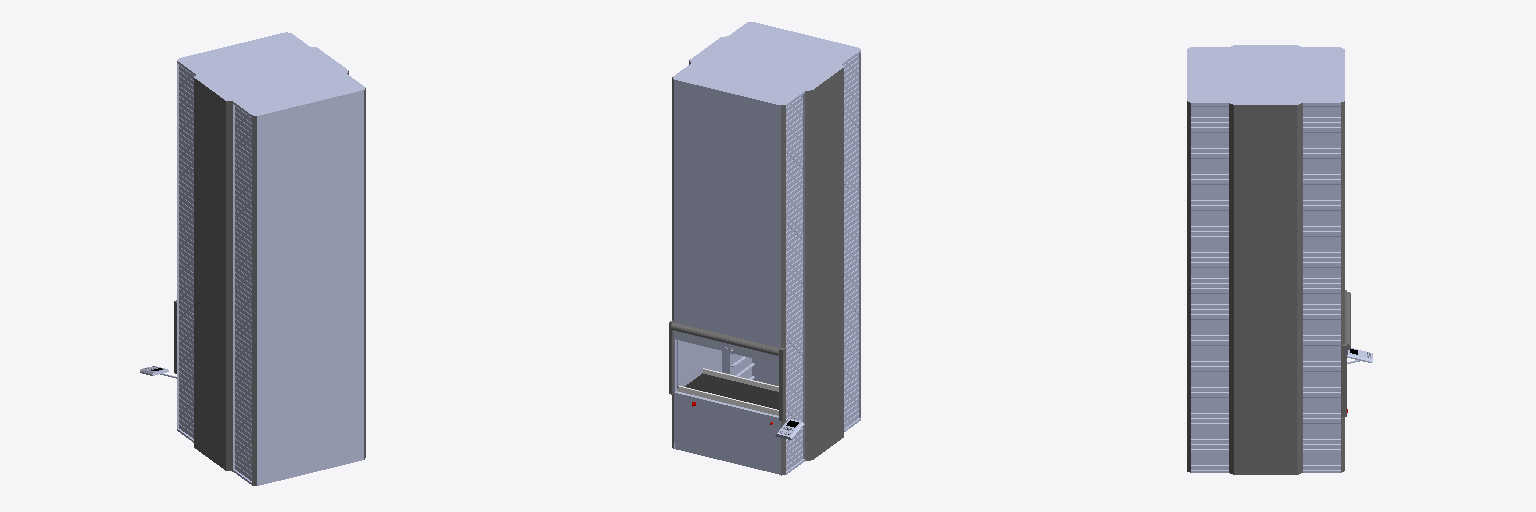
File: armazemverticalassNameAndGrouped.obj
3 renders of one model, left to right at view 1: azimuth 30°, elevation 25°; view 2: azimuth 150°, elevation 25°; view 3: azimuth 270°, elevation 25°, orthographic.
Parts seen in each view (by area): view 1: CerticalStorage; view 2: CerticalStorage, Drawer1, SlideDoor; view 3: CerticalStorage.
Part boxes in pixels (x1,y1,x2,y2): CerticalStorage: (140, 32, 365, 485); CerticalStorage: (669, 22, 860, 475); Drawer1: (677, 368, 778, 415); SlideDoor: (675, 332, 778, 364); CerticalStorage: (1187, 45, 1372, 474).
Size of the model in its own units: 2.26 by 5.7 by 2.6.